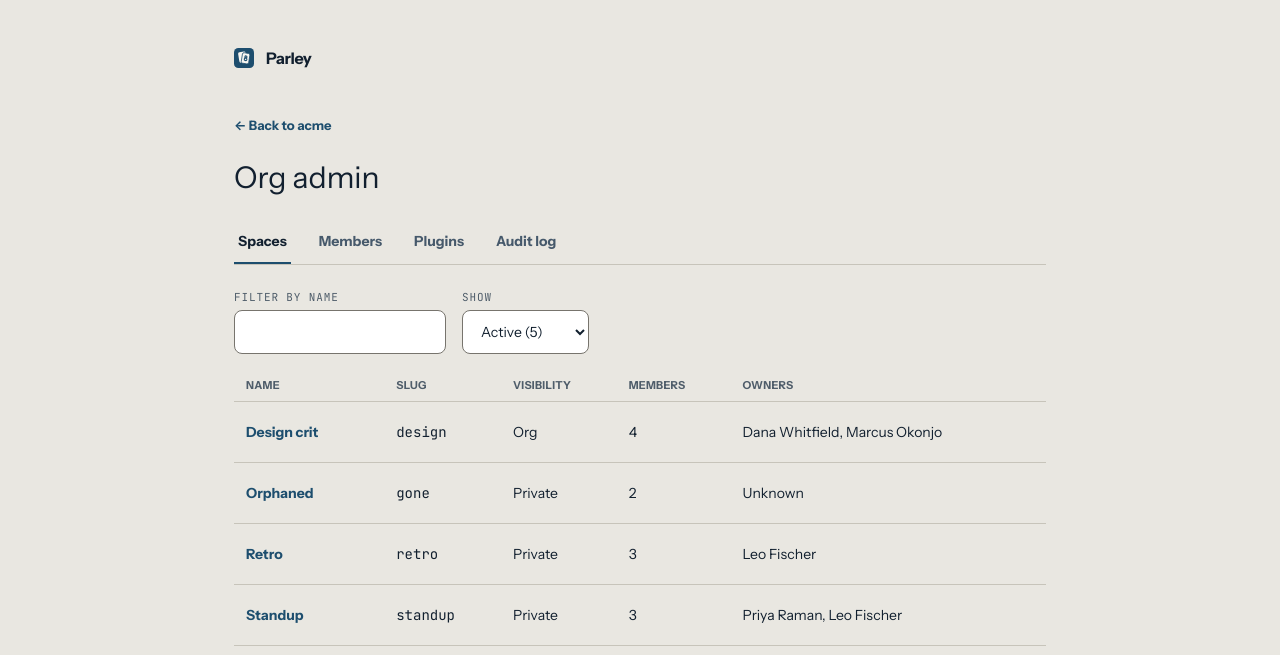
Test: org admin hub › space panel › says a vanished space is not in this org
Click the button named "Manage Design crit" at (282, 432), box [246,410,318,454]
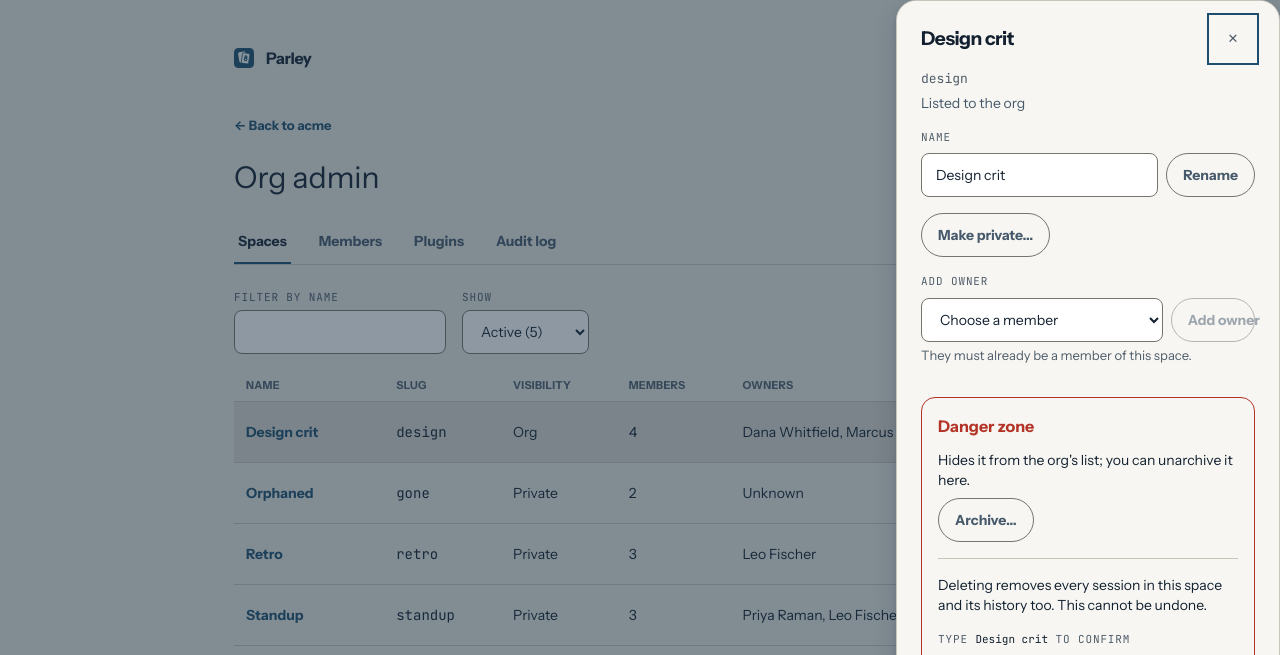
Click the button "Rename" at (1211, 175), box [1166,153,1255,197]
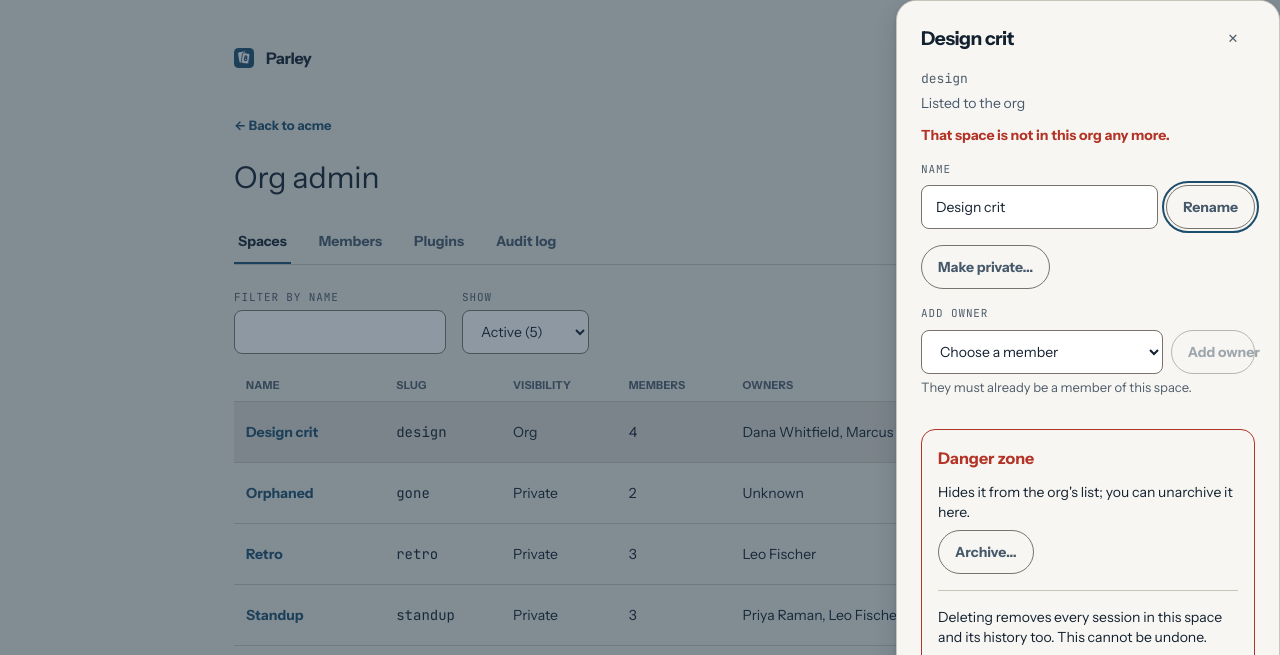
expect the text "That space is not in this org any more." is shown: met, box [921,126,1170,144]
